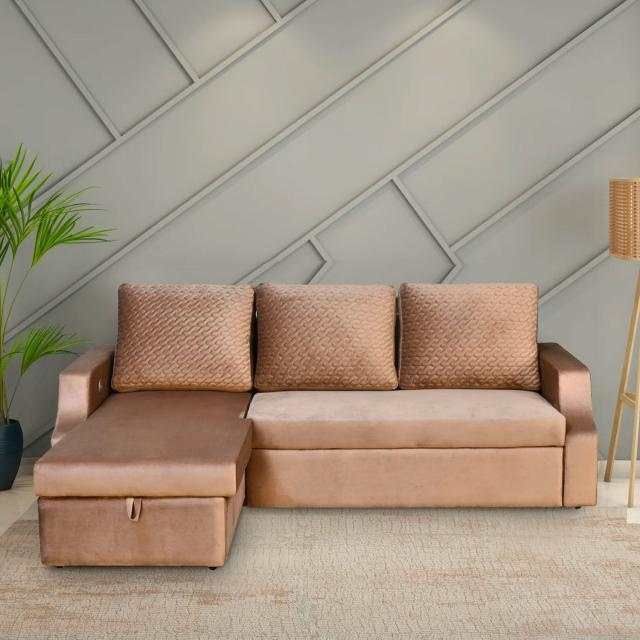sofa: (33, 280, 599, 568)
